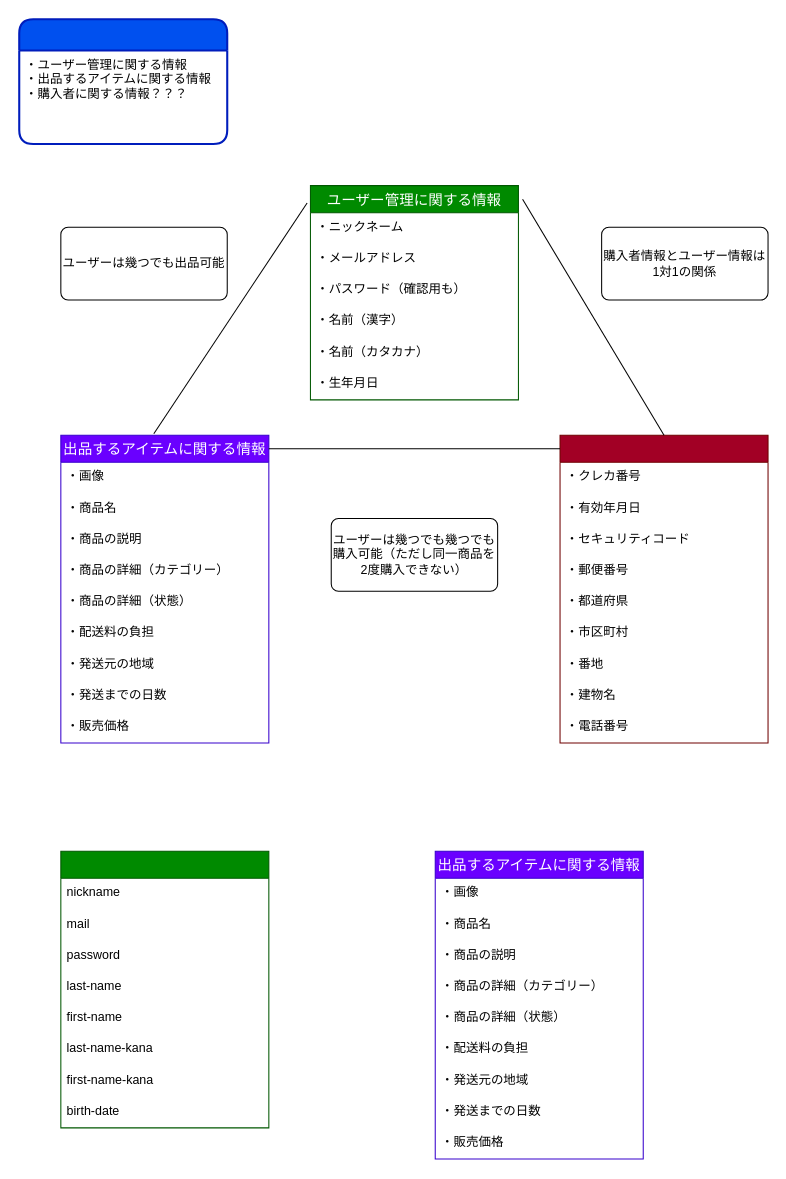
This 786x1179 diagram has some shape labels left out. The shapes that lost their labels are listed below. From the top down, each one's box as (x1, y1, x2, y2) in pixels, then its label:
(18, 18, 228, 145): Entity
(559, 434, 768, 743): 購入者に関する情報
(60, 850, 269, 1128): Users Table
